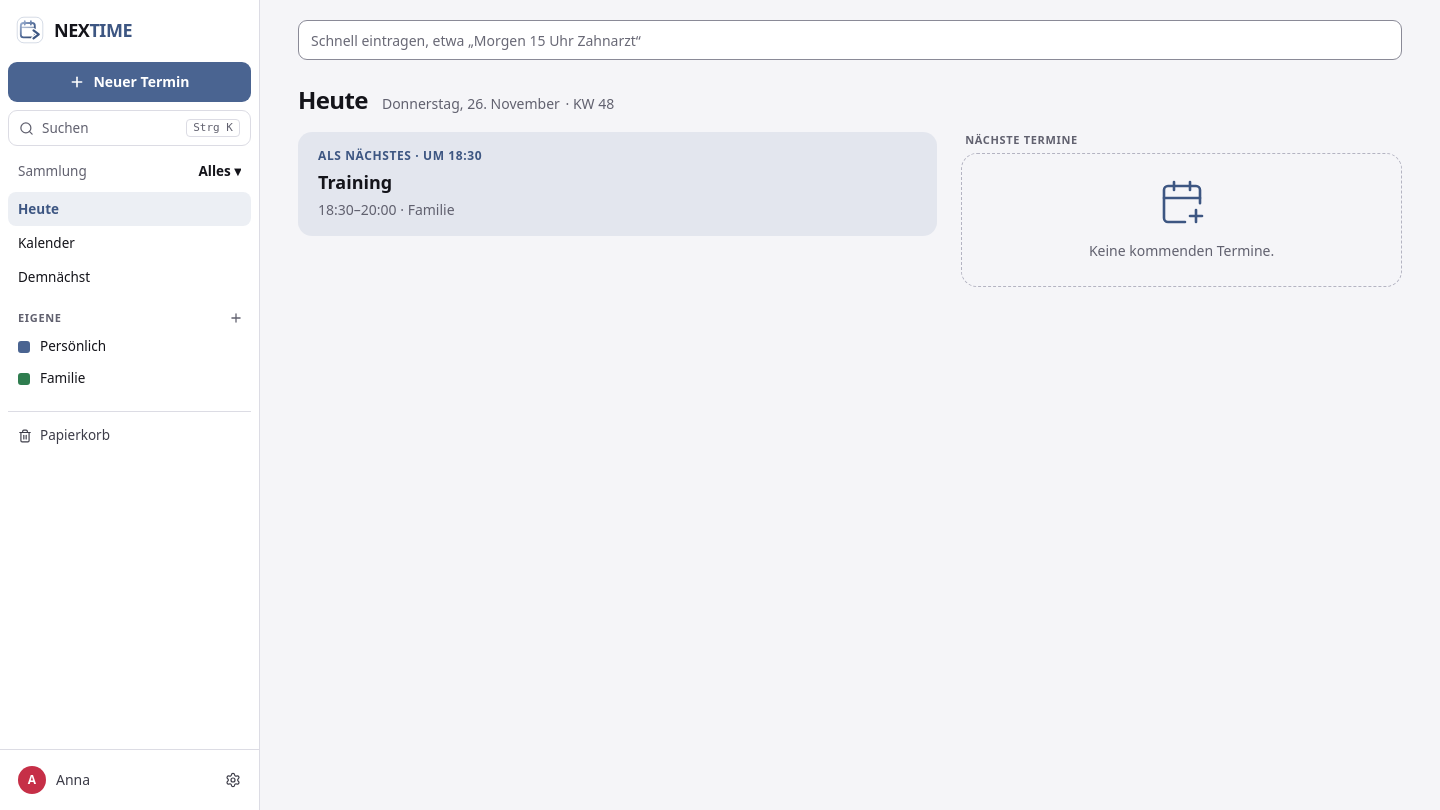
Test: TIME-5 the side panel › TIME-5 AC-8 EC-14 opens on the right with the head and every field from top to bottom
Click the button with test id "next-day-row". click: (400, 156)
box: [298, 132, 937, 236]
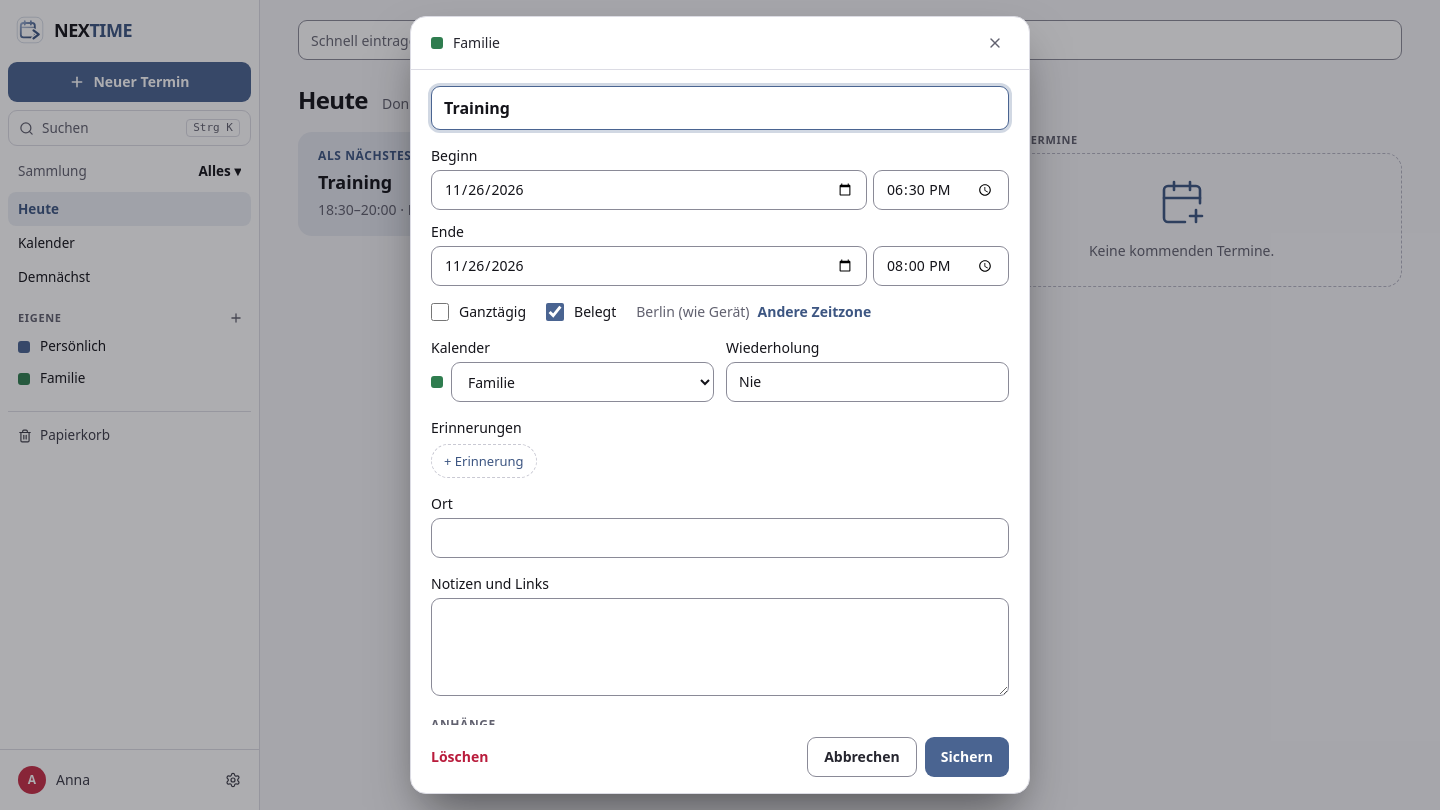
Result: the element with test id "event-panel" is shown
Result: the text "Familie" is shown at [453, 33, 500, 52]
Result: the field named "Titel (Pflicht)" holds "Training" at [431, 86, 1009, 130]
